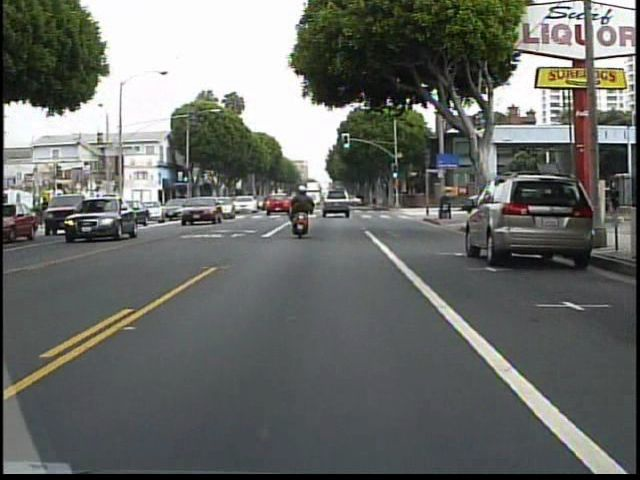person: (288, 182, 320, 237)
